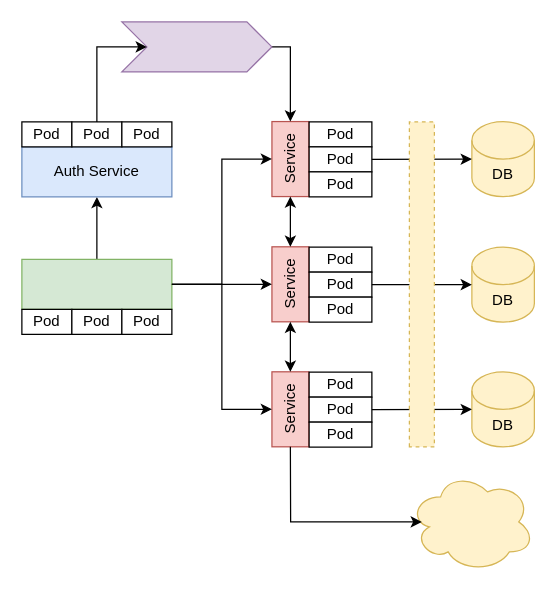
The diagram is 556 pixels wide and 594 high, and some of its shapes have lost their labels. The centre of each missing label's shape, as x and y in pixels:
"API Gateway" goes at (96,283).
"PostgreSQL Cluster" goes at (421,284).
"RabbitMQ" goes at (196,46).
"S3" goes at (471,521).
